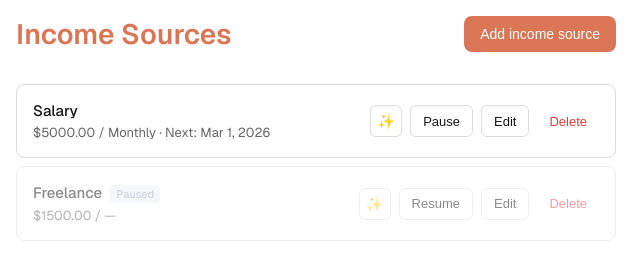
Test: IncomePage › toggles pause to resume when clicking pause button on active source
Expected: the text "Salary" is shown, [33, 101, 78, 120]
Click the button with aria-label "Pause Salary": (442, 121) [410, 105, 473, 137]
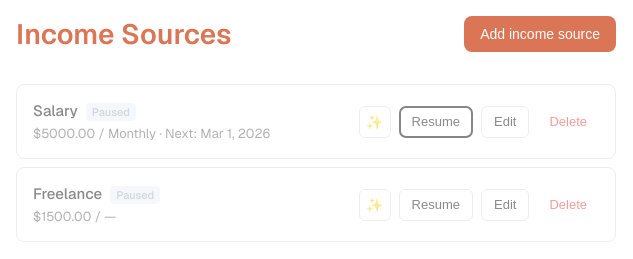
Expected: the button with aria-label "Resume Salary" is shown, [399, 106, 473, 138]
